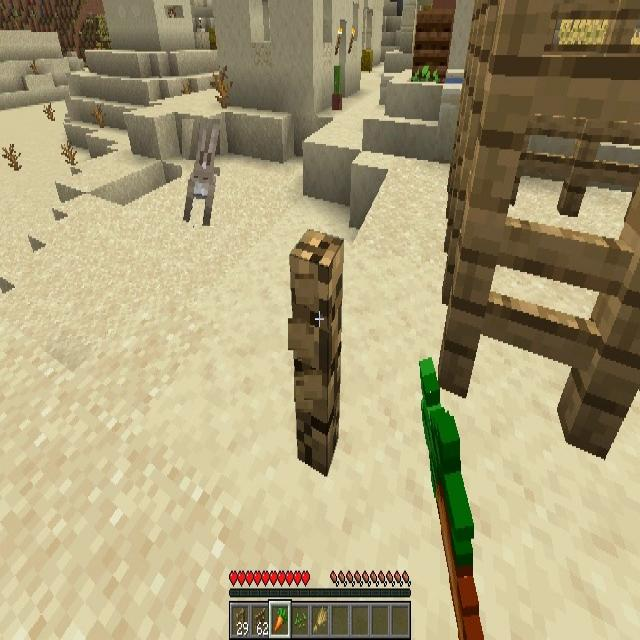rabbit: (182, 119, 220, 226)
